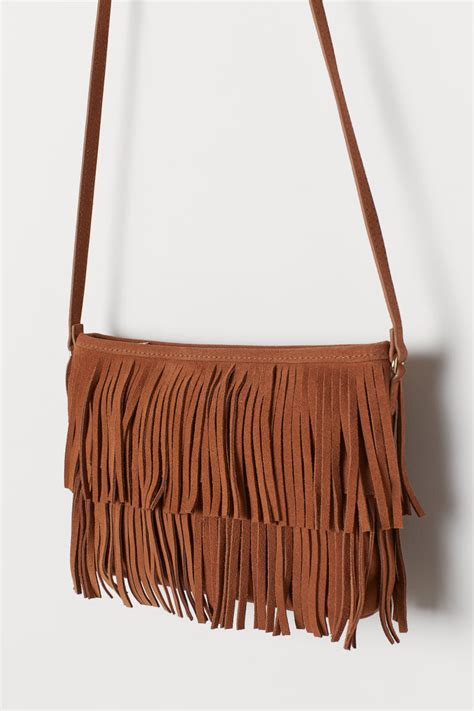gamuza: (64, 333, 425, 650)
